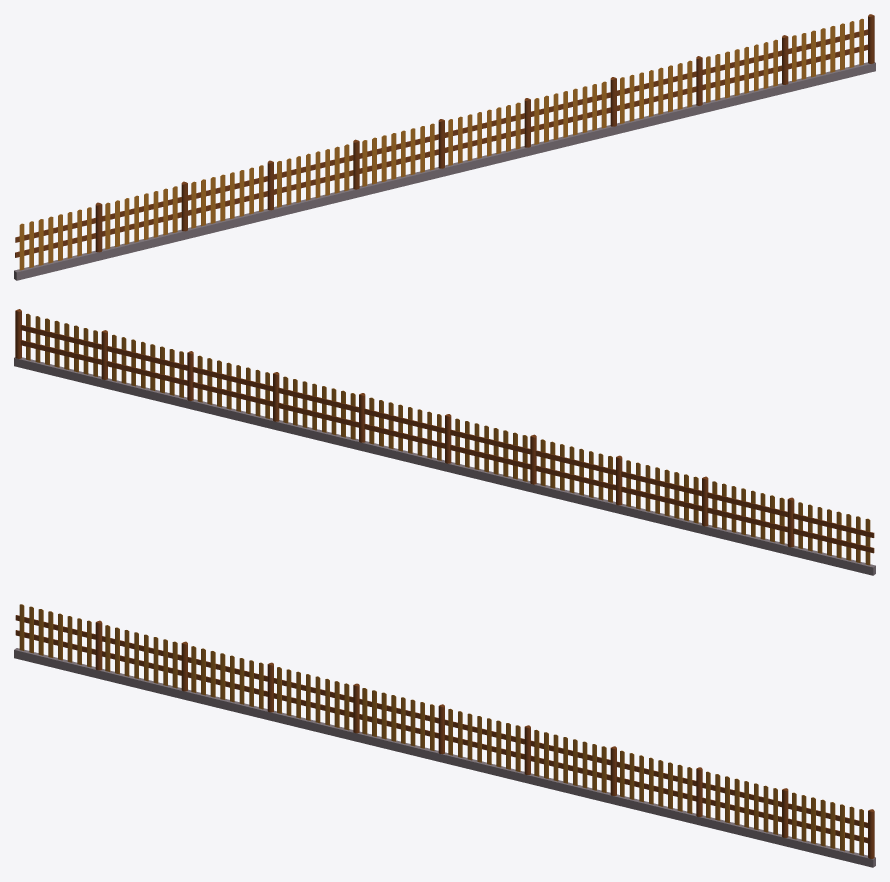
The model's file is fence10.fbx.
The picture shows the model from 3 angles, top to bottom: view 1: azimuth 30°, elevation 25°; view 2: azimuth 150°, elevation 25°; view 3: azimuth 330°, elevation 25°; orthographic projection.
Visible parts, largest first — view 1: 立方体.023; view 2: 立方体.023; view 3: 立方体.023.
Part boxes in pixels (x1,y1,x2,y2): 立方体.023: (14,14,875,280); 立方体.023: (14,309,875,575); 立方体.023: (14,604,875,867).
Bounding box in the file's own units: 1785 × 111 × 10.05.
